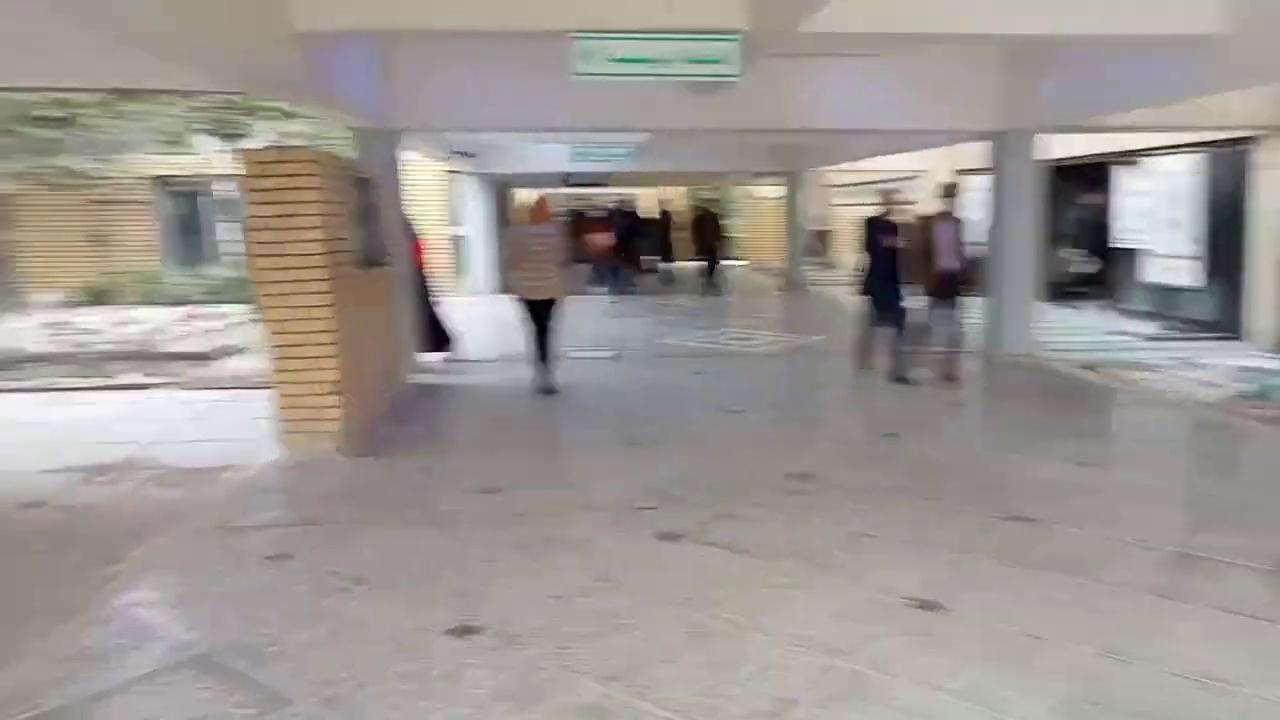person: (505, 194, 574, 395), (855, 186, 919, 385), (916, 180, 970, 383), (607, 198, 644, 294), (690, 205, 723, 293)
